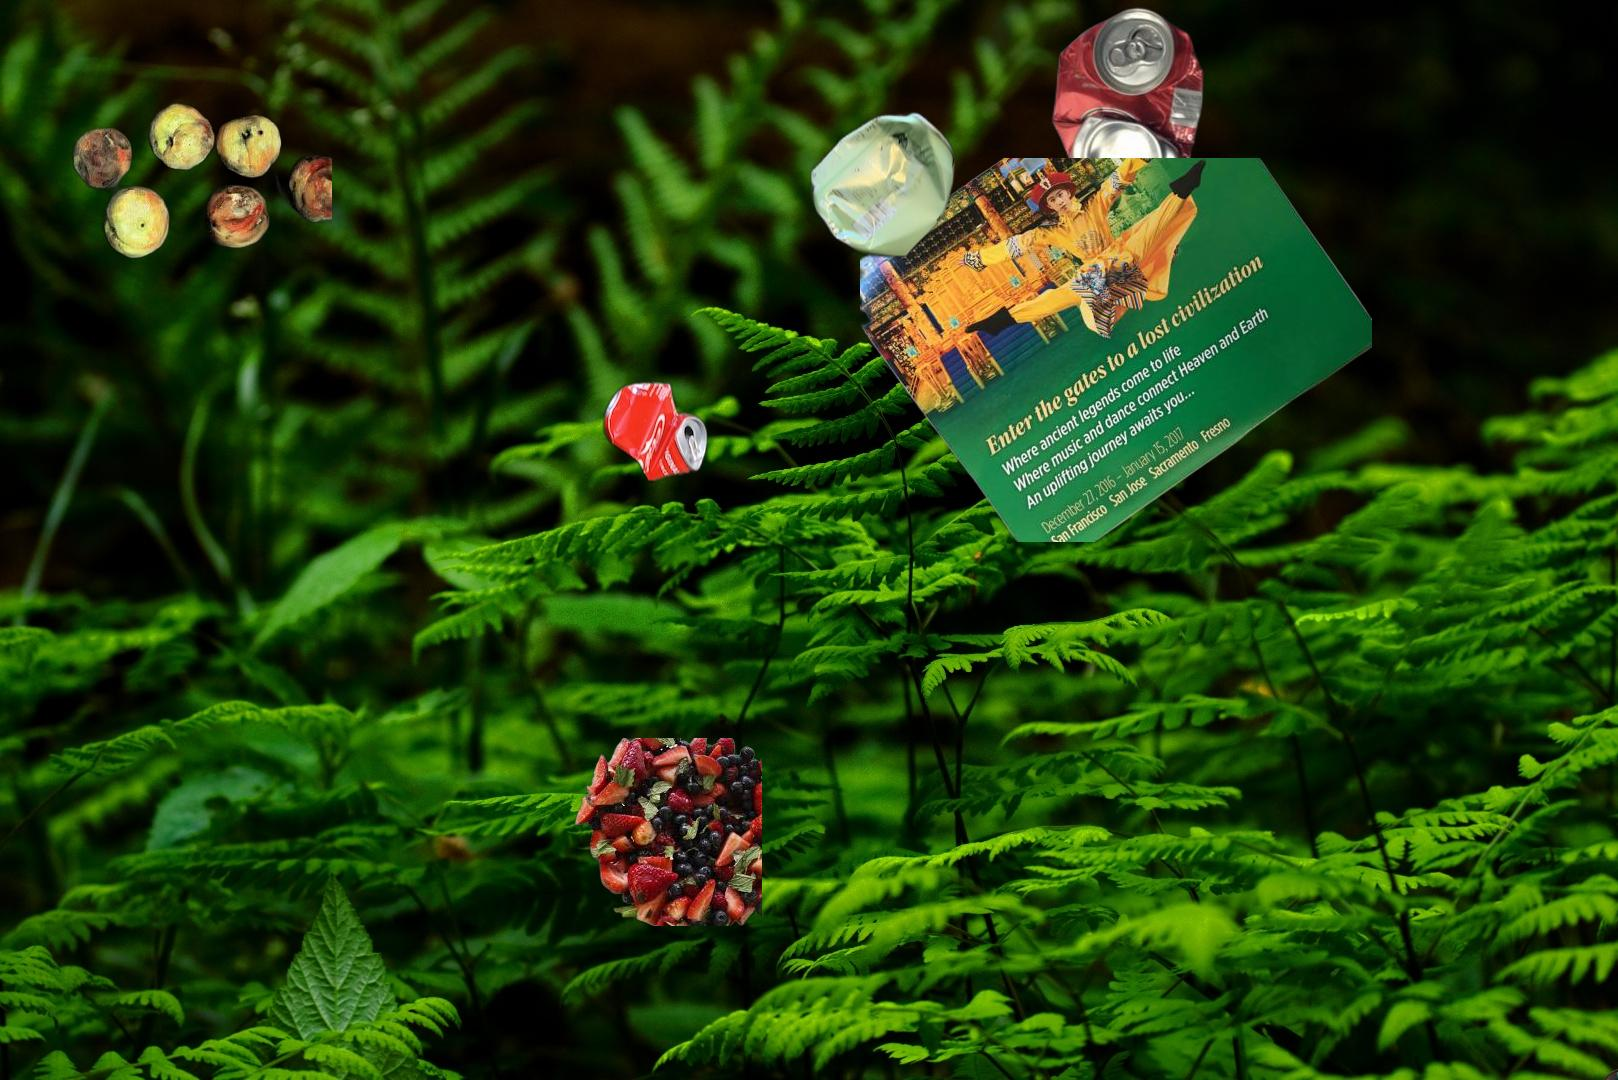biological: (63, 100, 333, 278), (572, 738, 761, 926)
clothes: (1599, 1051, 1618, 1080)
metal-cans: (595, 375, 760, 702), (1047, 4, 1208, 196), (806, 106, 960, 263)
paper: (860, 158, 1372, 542)
penholder: (1584, 542, 1618, 1080)
